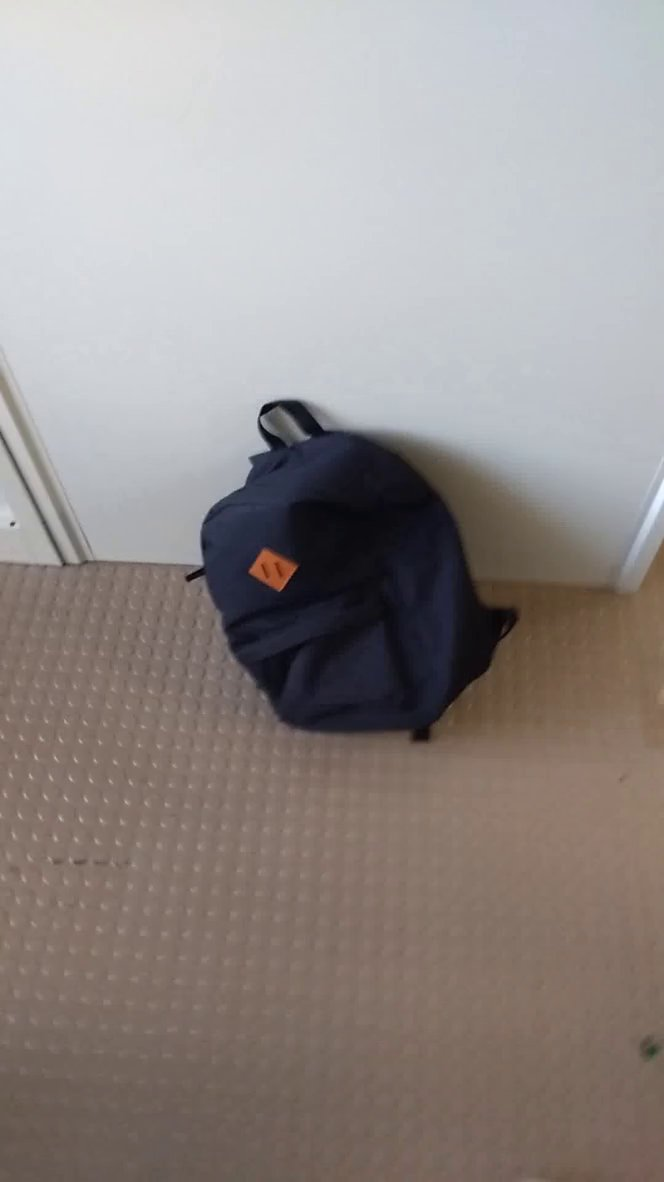bag: (166, 376, 534, 757)
